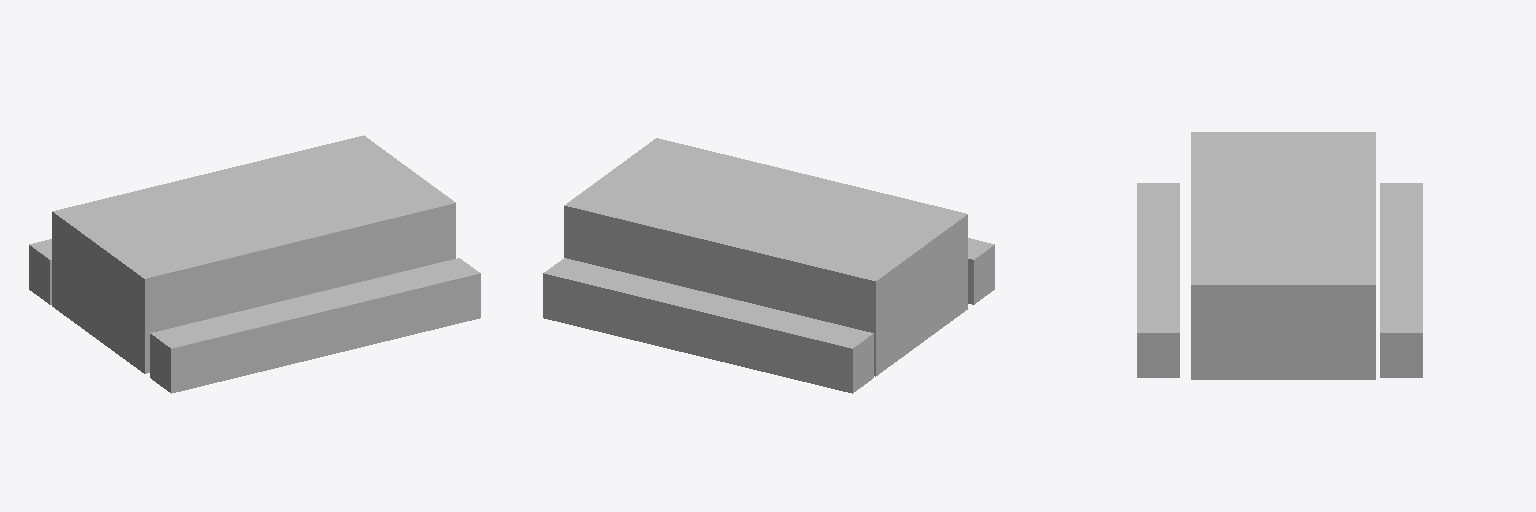
Rendered from tableBenchesColl.obj.
The picture shows the model from 3 angles: view 1: azimuth 30°, elevation 25°; view 2: azimuth 150°, elevation 25°; view 3: azimuth 270°, elevation 25°; orthographic projection.
Visible parts, largest first — view 1: Box519, Box521, Box520; view 2: Box519, Box520, Box521; view 3: Box519, Box521, Box520.
Part boxes in pixels (x1,y1,x2,y2): Box519: (52,135,455,373); Box521: (150,258,480,393); Box520: (29,239,51,304); Box519: (564,138,967,376); Box520: (543,258,873,393); Box521: (968,238,994,304); Box519: (1191,132,1375,379); Box521: (1137,183,1179,377); Box520: (1380,183,1422,377).
Bounding box in the file's own units: 19.58 × 5.71 × 15.51.